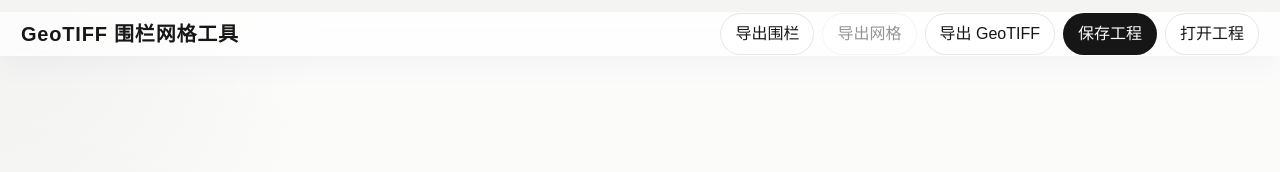
ExportControls › shows exporting state while geotiff export is pending
Click the button "导出 GeoTIFF". click: (990, 34)
box: [924,13,1055,55]
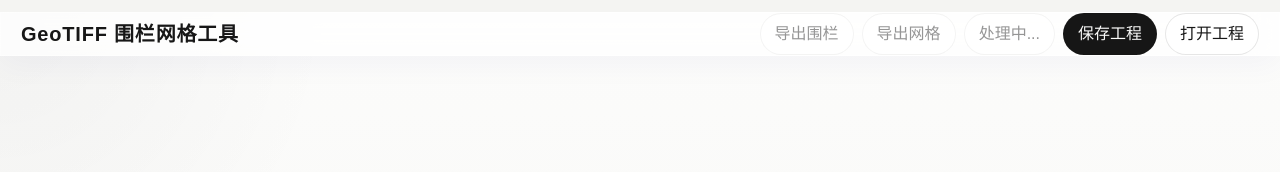
Expected: the button "处理中..." is disabled, [964,13,1055,55]
